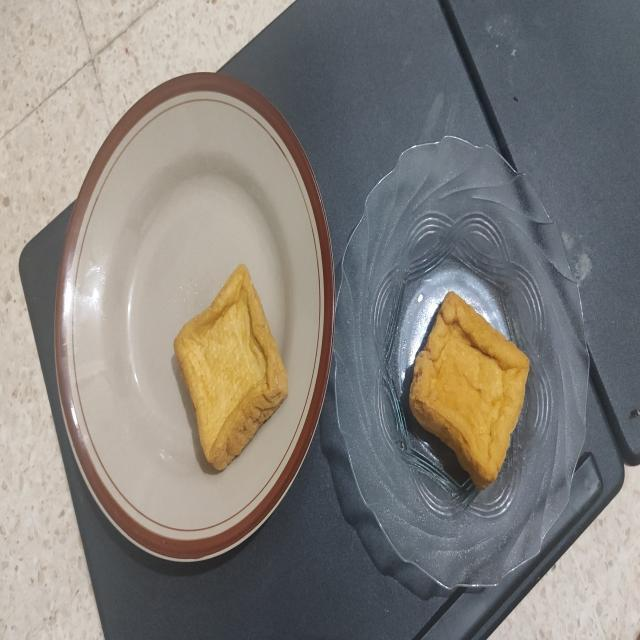tahu_goreng: (410, 292, 530, 489), (174, 264, 288, 471)
